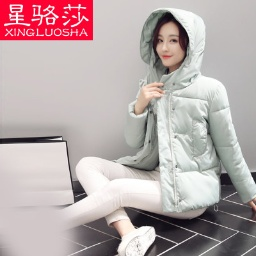face: (144, 9, 195, 77)
